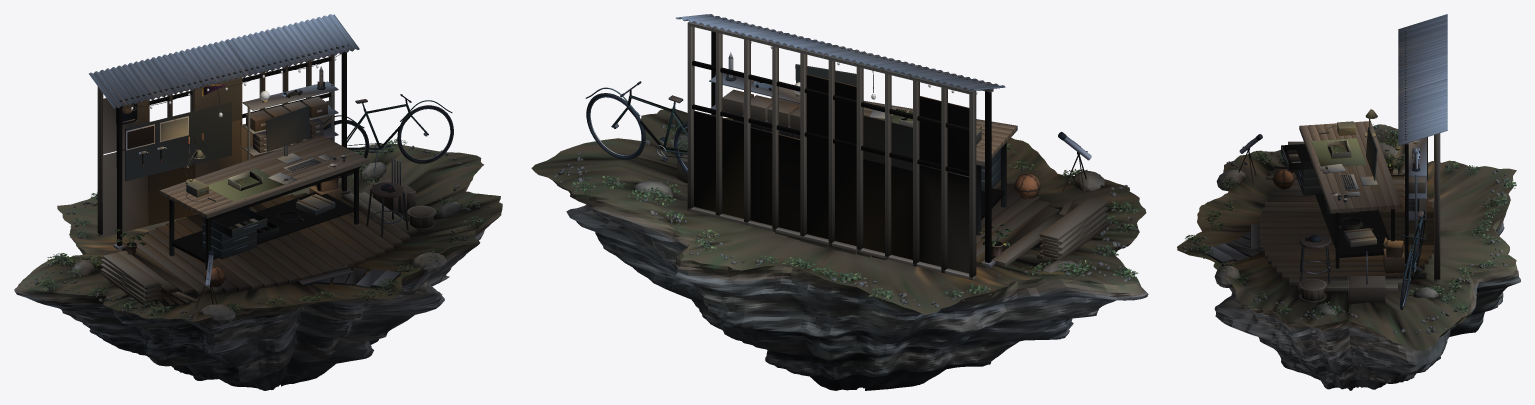
File: flight-projects-d880ee92.glb
3 renders of one model, left to right at view 1: azimuth 30°, elevation 25°; view 2: azimuth 150°, elevation 25°; view 3: azimuth 270°, elevation 25°, orthographic. The views are drawn at different scales.
Parts seen in each view (by area): view 1: Projects island · flight.001; view 2: Projects island · flight.001; view 3: Projects island · flight.001.
Boxes of the visible parts, x1=… form: Projects island · flight.001: x1=14, y1=14, x2=502, y2=390; Projects island · flight.001: x1=531, y1=14, x2=1148, y2=390; Projects island · flight.001: x1=1177, y1=14, x2=1520, y2=390.
Bounding box in the file's own units: 12.73 × 7.92 × 8.1.
